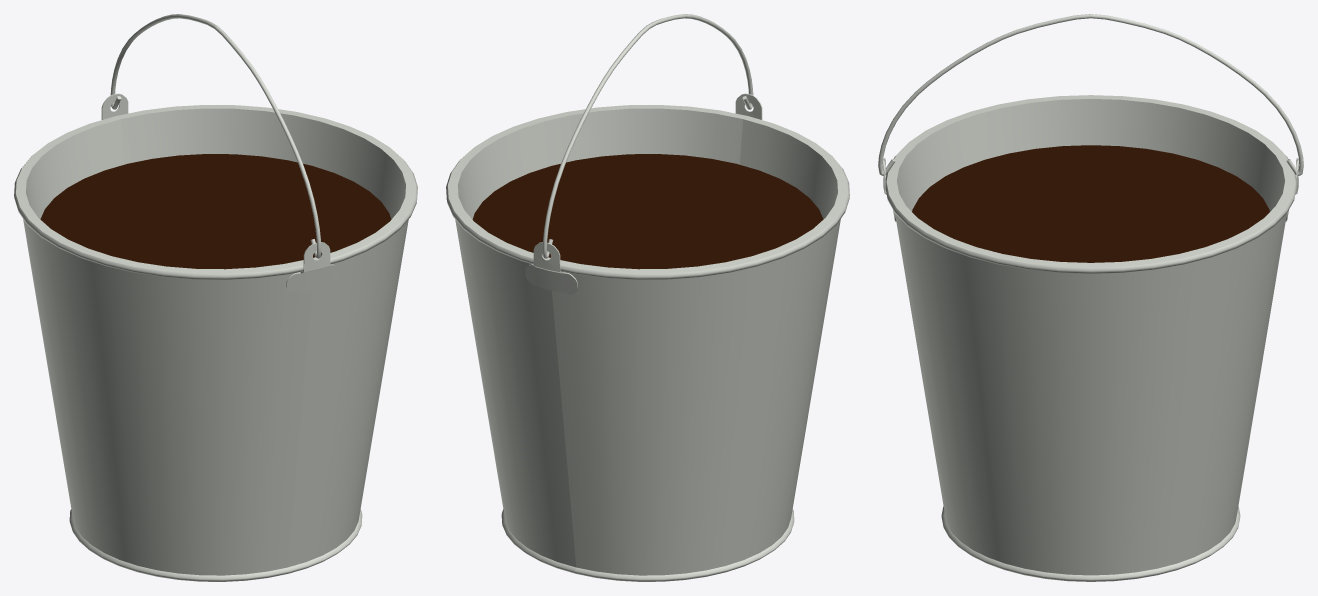
The model's file is PLS DONT USE THIS!.fbx.
3 renders of one model, left to right at view 1: azimuth 30°, elevation 25°; view 2: azimuth 150°, elevation 25°; view 3: azimuth 270°, elevation 25°, orthographic. The views are drawn at different scales.
Visible parts, largest first — view 1: Bucket, Cylinder.001, 1_low, 2_low; view 2: Bucket, Cylinder.001, 1_low, 2_low; view 3: Bucket, Cylinder.001, 1_low.
Boxes of the visible parts, bbox=[...] form: Bucket: bbox=[14, 105, 417, 581]; Cylinder.001: bbox=[40, 154, 391, 269]; 1_low: bbox=[110, 14, 321, 258]; 2_low: bbox=[101, 93, 338, 294]; Bucket: bbox=[446, 105, 849, 581]; Cylinder.001: bbox=[472, 154, 823, 269]; 1_low: bbox=[542, 14, 753, 258]; 2_low: bbox=[525, 93, 762, 294]; Bucket: bbox=[885, 95, 1296, 581]; Cylinder.001: bbox=[912, 145, 1269, 262]; 1_low: bbox=[878, 14, 1303, 175].
Size of the model in its own units: 90.03 by 122 by 92.9.
